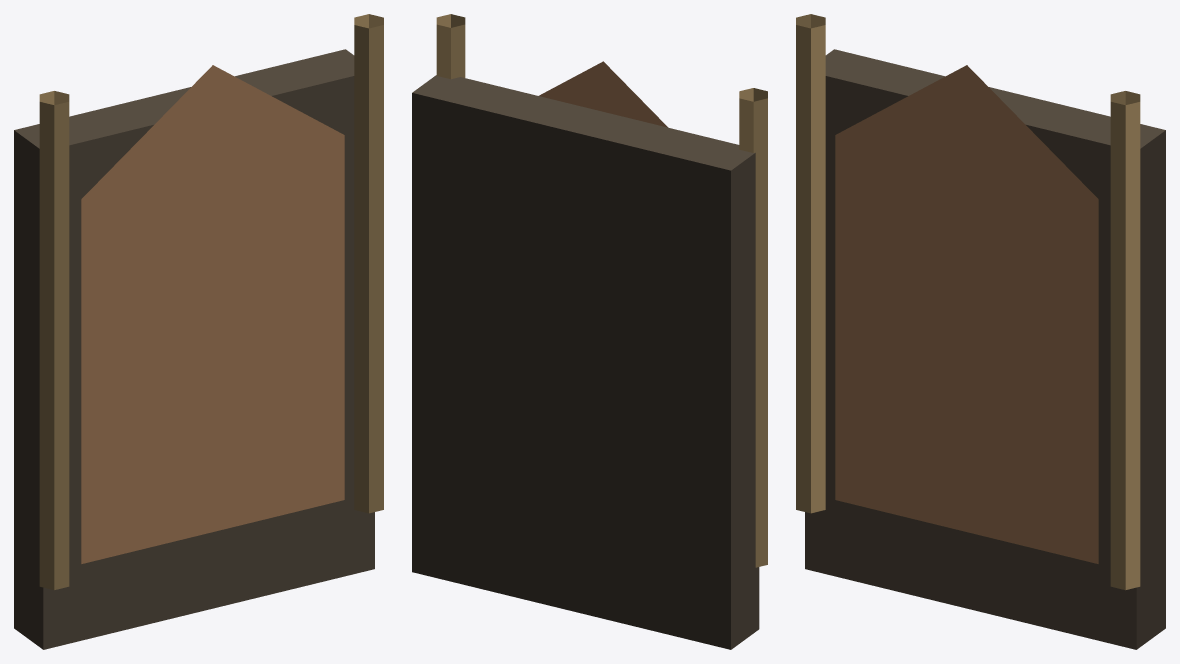
3 views of the same model, side by side, from view 1: azimuth 30°, elevation 25°; view 2: azimuth 150°, elevation 25°; view 3: azimuth 330°, elevation 25° (orthographic). The views are drawn at different scales.
Parts seen in each view (by area): view 1: 8acd8f4e2c86f11cef73173ec95f9f6ffdb609d32c34a9ba7149ad21a12a; view 2: 8acd8f4e2c86f11cef73173ec95f9f6ffdb609d32c34a9ba7149ad21a12a; view 3: 8acd8f4e2c86f11cef73173ec95f9f6ffdb609d32c34a9ba7149ad21a12a.
Part boxes in pixels (x1,y1,x2,y2): 8acd8f4e2c86f11cef73173ec95f9f6ffdb609d32c34a9ba7149ad21a12a: (14,14,383,649); 8acd8f4e2c86f11cef73173ec95f9f6ffdb609d32c34a9ba7149ad21a12a: (412,14,767,649); 8acd8f4e2c86f11cef73173ec95f9f6ffdb609d32c34a9ba7149ad21a12a: (796,14,1165,649).
Size of the model in its own units: 0.8101 by 1.24 by 0.1603.
3 materials, 1 textured.
